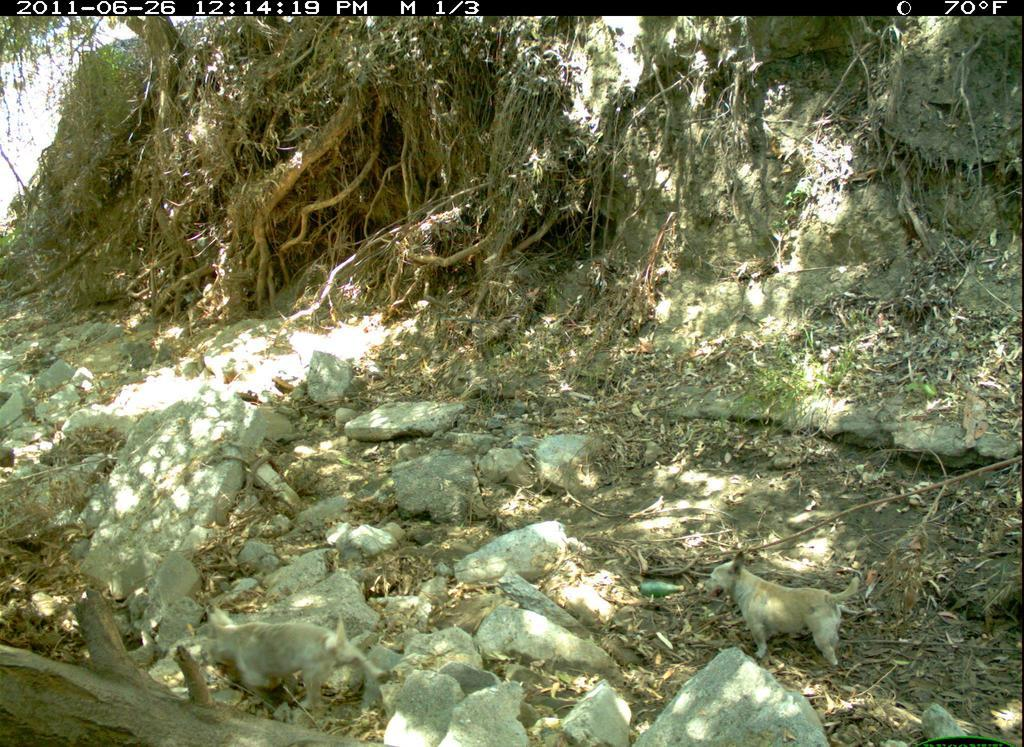dog: (702, 553, 868, 671)
